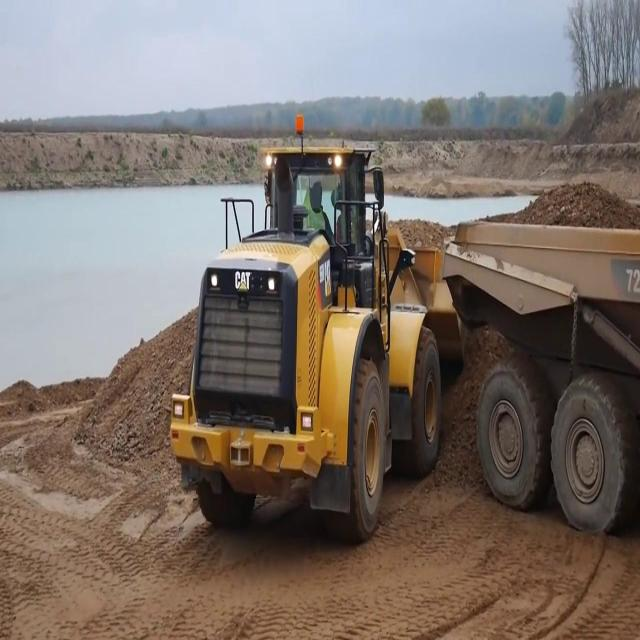buldozerpayloadergrader: (167, 110, 469, 542)
dump_truck: (440, 215, 640, 534)
